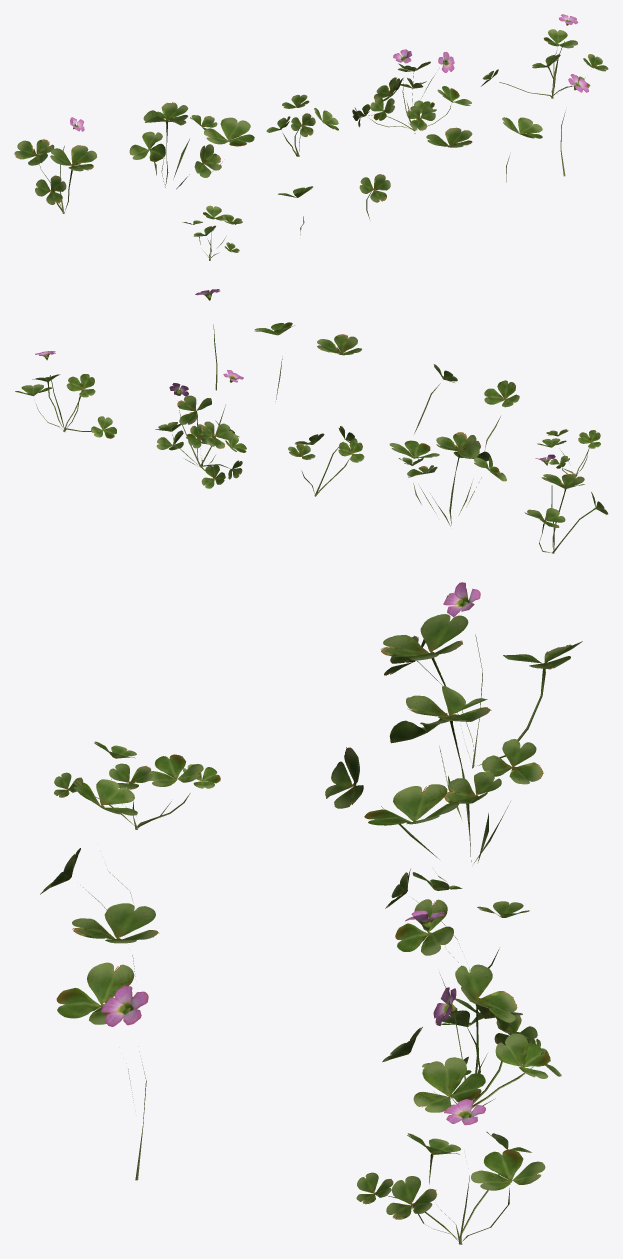
File: shrub_sorrel_01.glb
3 renders of one model, top to bottom at view 1: azimuth 30°, elevation 25°; view 2: azimuth 150°, elevation 25°; view 3: azimuth 270°, elevation 25°, orthographic. The views are drawn at different scales.
Visible parts, largest first — view 1: shrub_sorrel_01_b, shrub_sorrel_01_d, shrub_sorrel_01_a, shrub_sorrel_01_e, shrub_sorrel_01_c, shrub_sorrel_01_f, shrub_sorrel_01_h, shrub_sorrel_01_i, shrub_sorrel_01_j; view 2: shrub_sorrel_01_d, shrub_sorrel_01_b, shrub_sorrel_01_e, shrub_sorrel_01_a, shrub_sorrel_01_c, shrub_sorrel_01_f, shrub_sorrel_01_g, shrub_sorrel_01_i; view 3: shrub_sorrel_01_b, shrub_sorrel_01_d, shrub_sorrel_01_e, shrub_sorrel_01_a, shrub_sorrel_01_f, shrub_sorrel_01_c, shrub_sorrel_01_j, shrub_sorrel_01_i, shrub_sorrel_01_k, shrub_sorrel_01_g.
Part boxes in pixels (x1,y1,x2,y2): shrub_sorrel_01_b: [129, 102, 254, 189]; shrub_sorrel_01_d: [352, 49, 471, 133]; shrub_sorrel_01_a: [14, 117, 96, 213]; shrub_sorrel_01_e: [481, 14, 608, 98]; shrub_sorrel_01_c: [266, 94, 338, 156]; shrub_sorrel_01_f: [182, 205, 242, 260]; shrub_sorrel_01_h: [359, 174, 390, 219]; shrub_sorrel_01_i: [426, 127, 472, 147]; shrub_sorrel_01_j: [502, 117, 542, 182]; shrub_sorrel_01_d: [155, 370, 246, 488]; shrub_sorrel_01_b: [389, 432, 506, 526]; shrub_sorrel_01_e: [15, 351, 116, 438]; shrub_sorrel_01_a: [524, 454, 608, 553]; shrub_sorrel_01_c: [288, 426, 364, 496]; shrub_sorrel_01_f: [537, 429, 600, 476]; shrub_sorrel_01_g: [484, 380, 519, 450]; shrub_sorrel_01_i: [317, 334, 361, 355]; shrub_sorrel_01_b: [325, 686, 543, 881]; shrub_sorrel_01_d: [382, 910, 561, 1114]; shrub_sorrel_01_e: [356, 1099, 545, 1244]; shrub_sorrel_01_a: [380, 582, 582, 768]; shrub_sorrel_01_f: [54, 741, 220, 829]; shrub_sorrel_01_c: [385, 869, 529, 973]; shrub_sorrel_01_j: [56, 962, 134, 1102]; shrub_sorrel_01_i: [72, 903, 159, 943]; shrub_sorrel_01_k: [101, 985, 148, 1180]; shrub_sorrel_01_g: [73, 779, 137, 900].
Bounding box in the file's own units: 0.3521 × 0.058 × 0.1464.
1 material, 1 textured.
